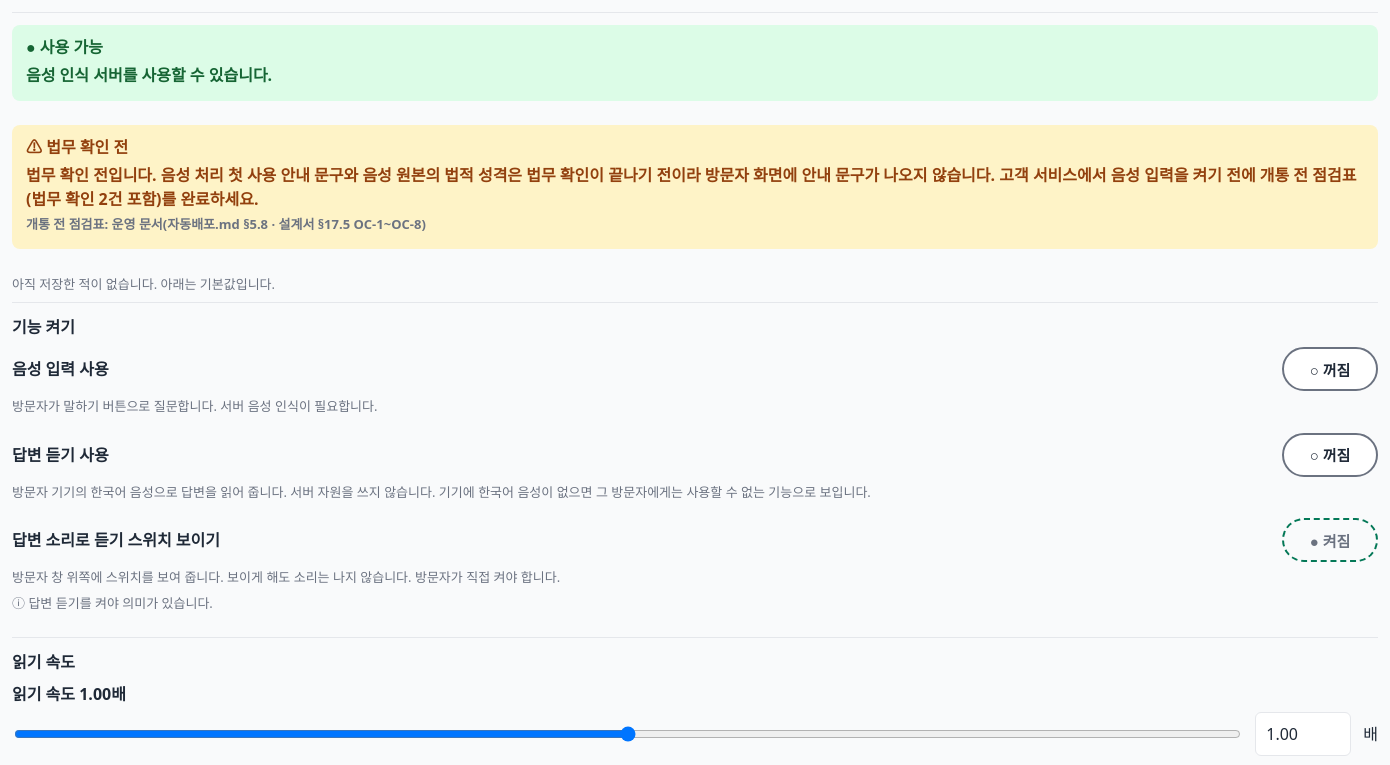
Test: 읽기 속도 — 슬라이더 + 숫자 입력 병행 › 두 컨트롤이 모두 있고 서로를 갱신하며 현재 값 텍스트가 상시 보인다
Expected: the switch named "음성 입력 사용" is shown, [1282,347,1378,391]
Expected: the text with test id "voice-rate-value" reads "1.00배", [79,683,126,705]
Step 1. Set the slider named "읽기 속도 슬라이더" to "1.15" → coordinates (1082, 734), box [14,712,1241,756]
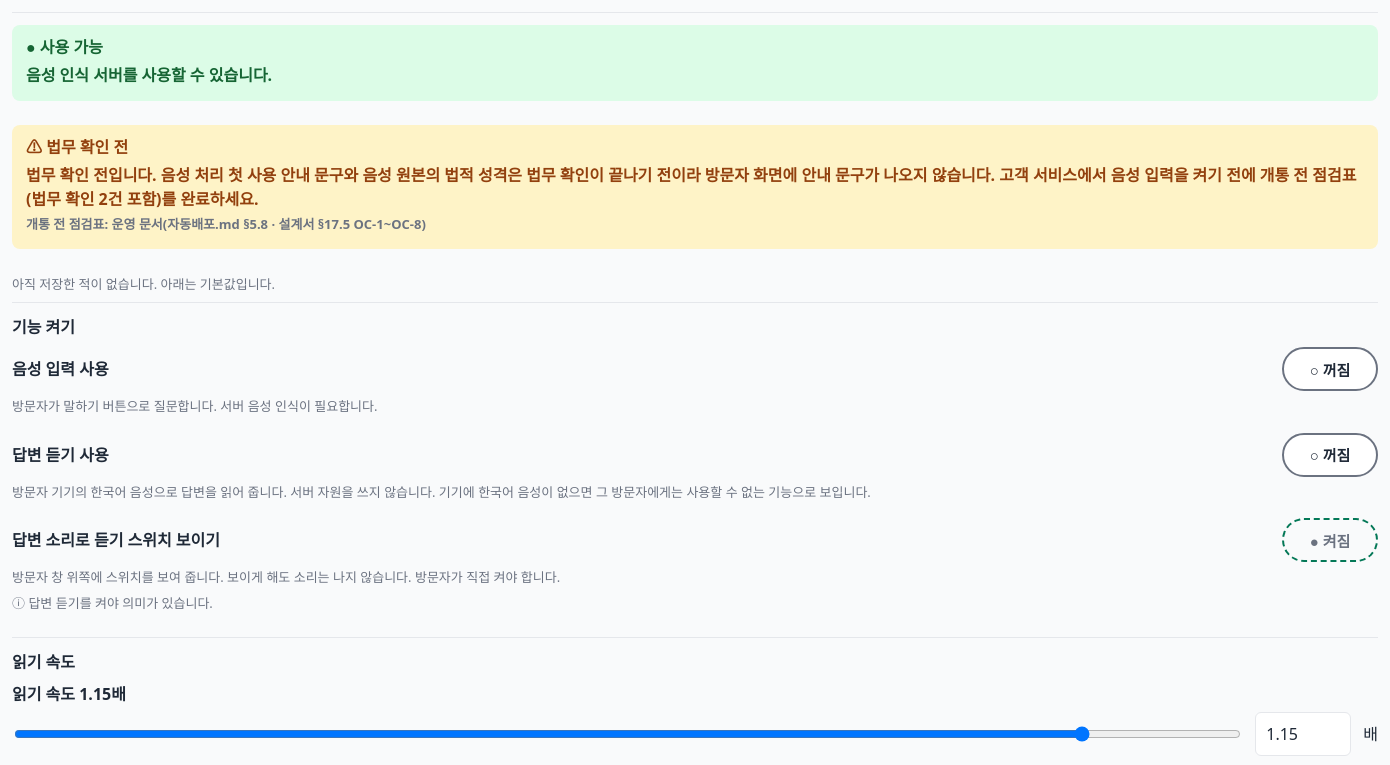
Result: the number field named "읽기 속도 숫자 입력" holds "1.15"
Result: the text with test id "voice-rate-value" reads "1.15배" at [79,683,126,705]
Step 2. Replace the text in the number field named "읽기 속도 숫자 입력" with "0.85" → coordinates (1303, 734), box [1255,712,1351,756]
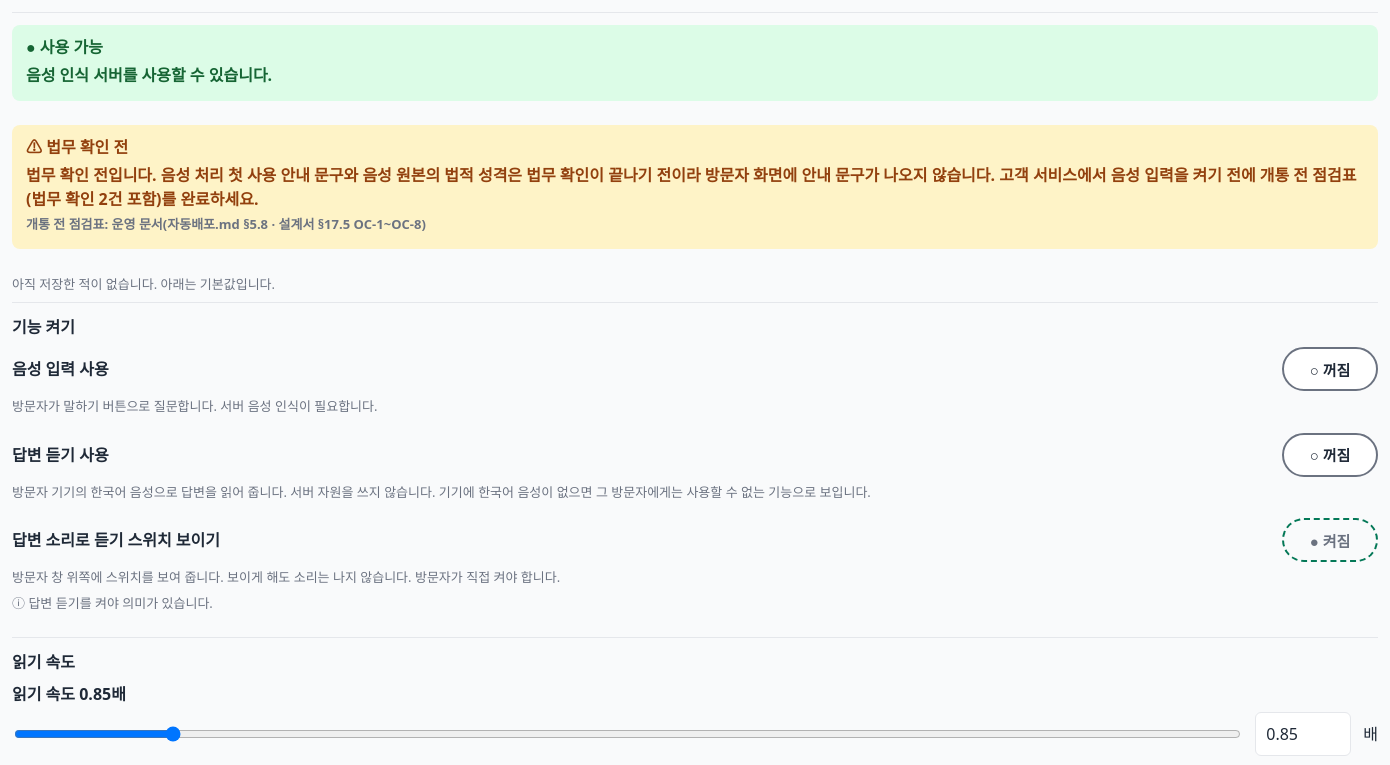
Result: the slider named "읽기 속도 슬라이더" holds "0.85" at [14,712,1241,756]
Result: the text with test id "voice-rate-value" reads "0.85배" at [79,683,126,705]
